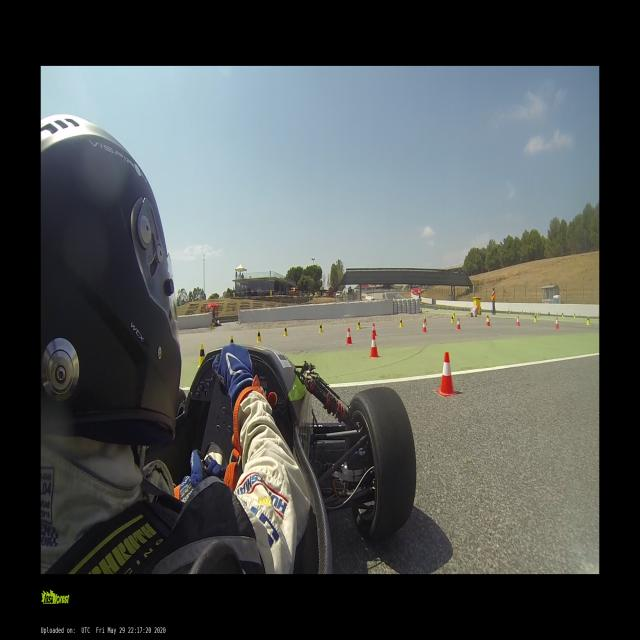orange_cone: (436, 353, 457, 397), (369, 333, 380, 358), (345, 328, 353, 344), (370, 323, 376, 336), (554, 318, 559, 330), (456, 318, 461, 330), (422, 320, 427, 332), (516, 316, 520, 327), (487, 316, 490, 326), (597, 313, 599, 319)
yellow_cone: (200, 344, 204, 364), (256, 330, 262, 342), (318, 322, 323, 333), (283, 326, 288, 336), (356, 320, 361, 329), (586, 315, 590, 325), (399, 318, 403, 328), (533, 314, 537, 322), (451, 314, 454, 323), (230, 335, 233, 343), (561, 313, 564, 317), (453, 312, 455, 318), (574, 313, 576, 318), (486, 313, 487, 321), (425, 316, 426, 324)
